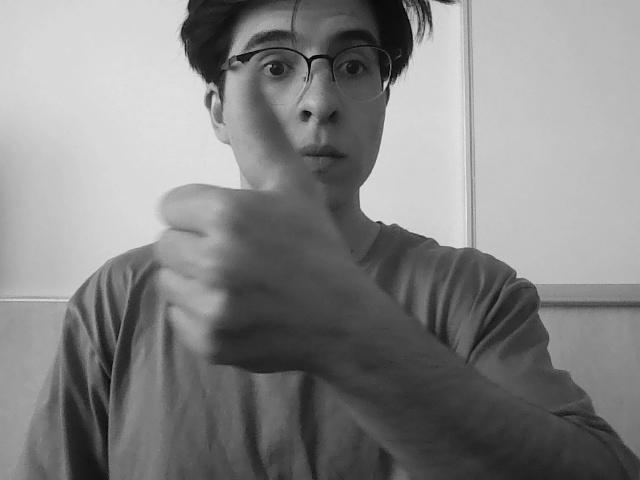good: (140, 79, 326, 379)
